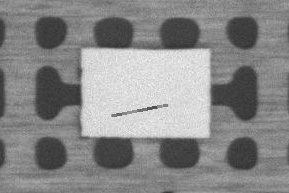DIE_INK: (108, 101, 167, 118)
